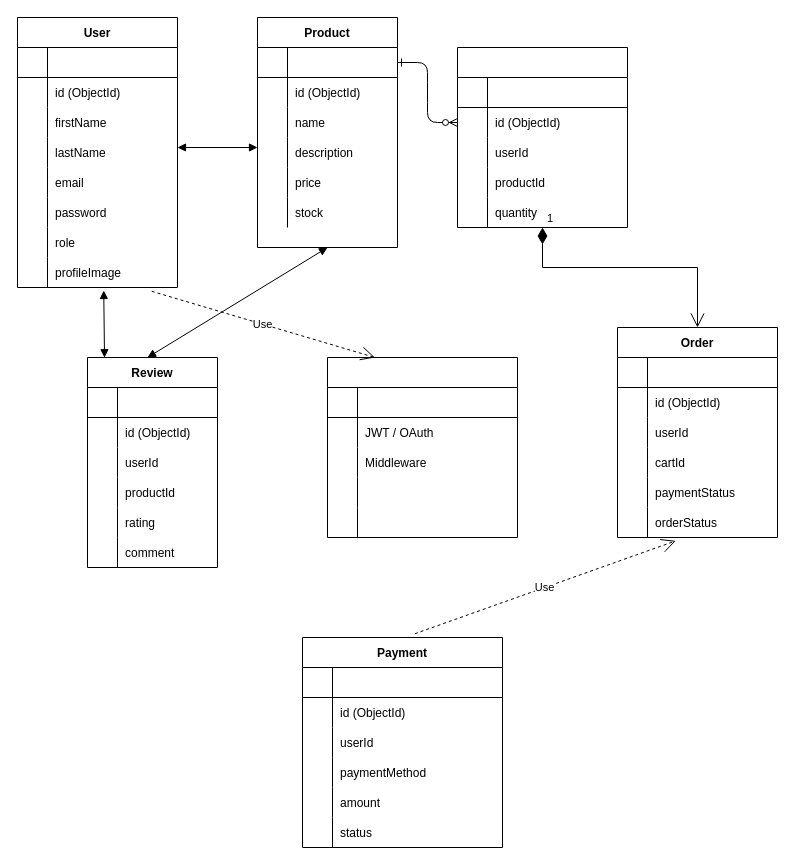
The diagram is 795 pixels wide and 865 high, and some of its shapes have lost their labels. Each missing label, with the box of its shape:
Authentication: (326, 356, 518, 538)
Cart: (456, 46, 628, 228)
